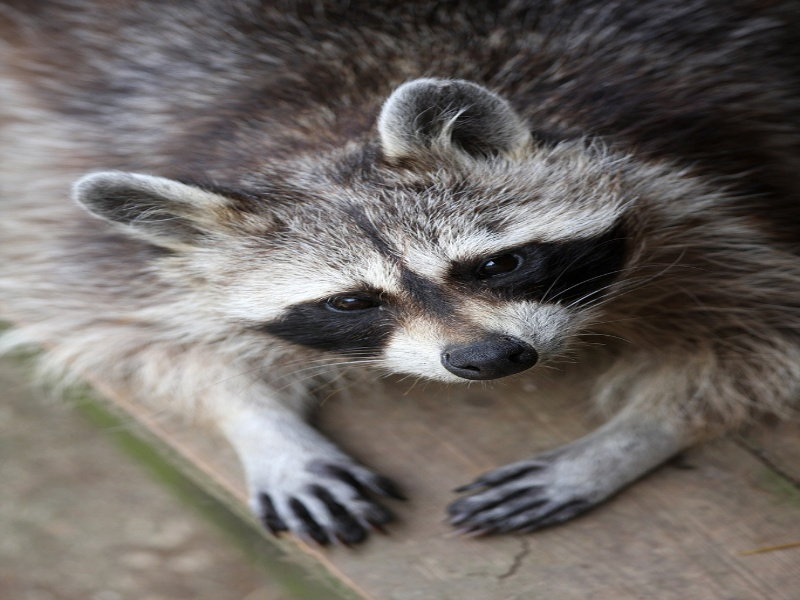raccoon: (24, 14, 793, 548)
